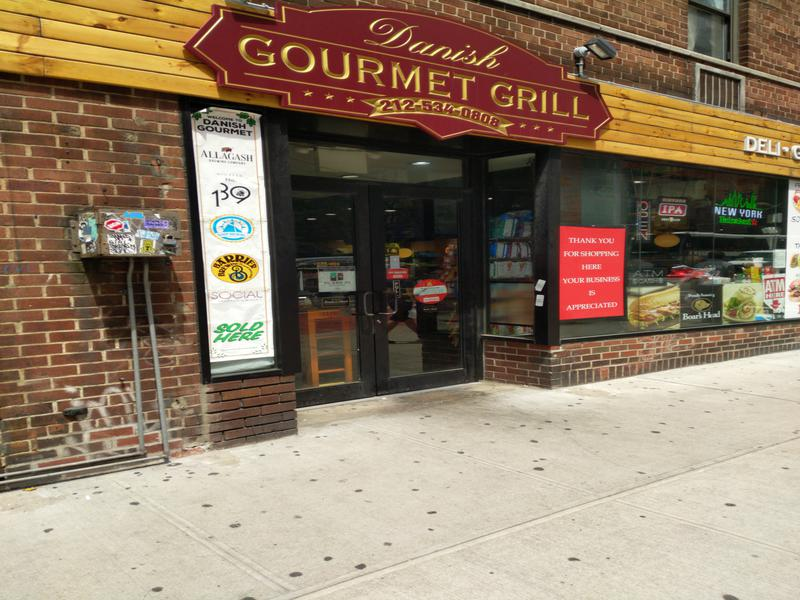double_door: (282, 129, 494, 408)
